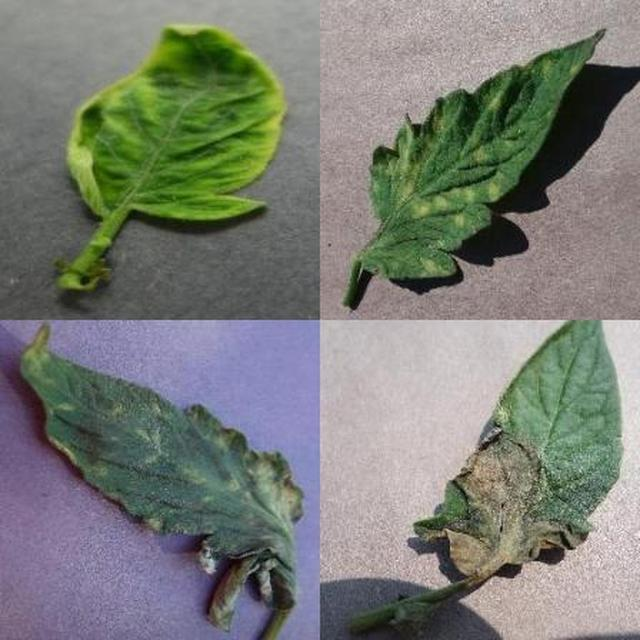Yellow Leaf Curl Virus: (231, 176, 640, 640)
